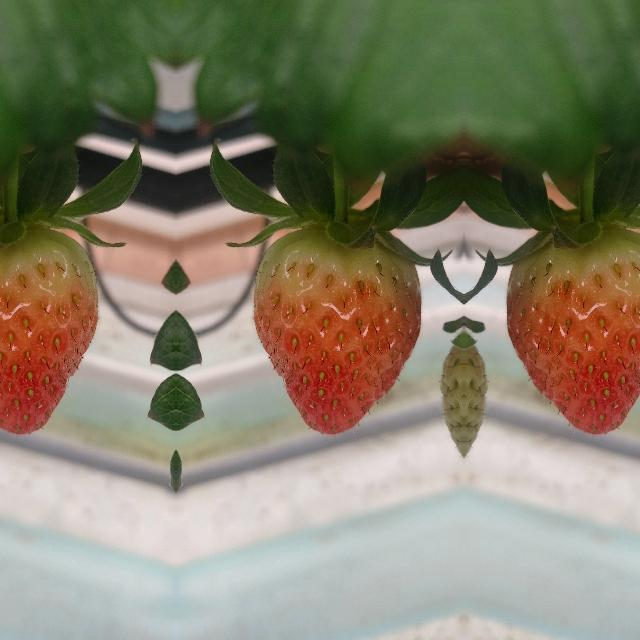Health_75: (252, 228, 420, 434), (506, 228, 640, 433), (0, 228, 98, 433)
